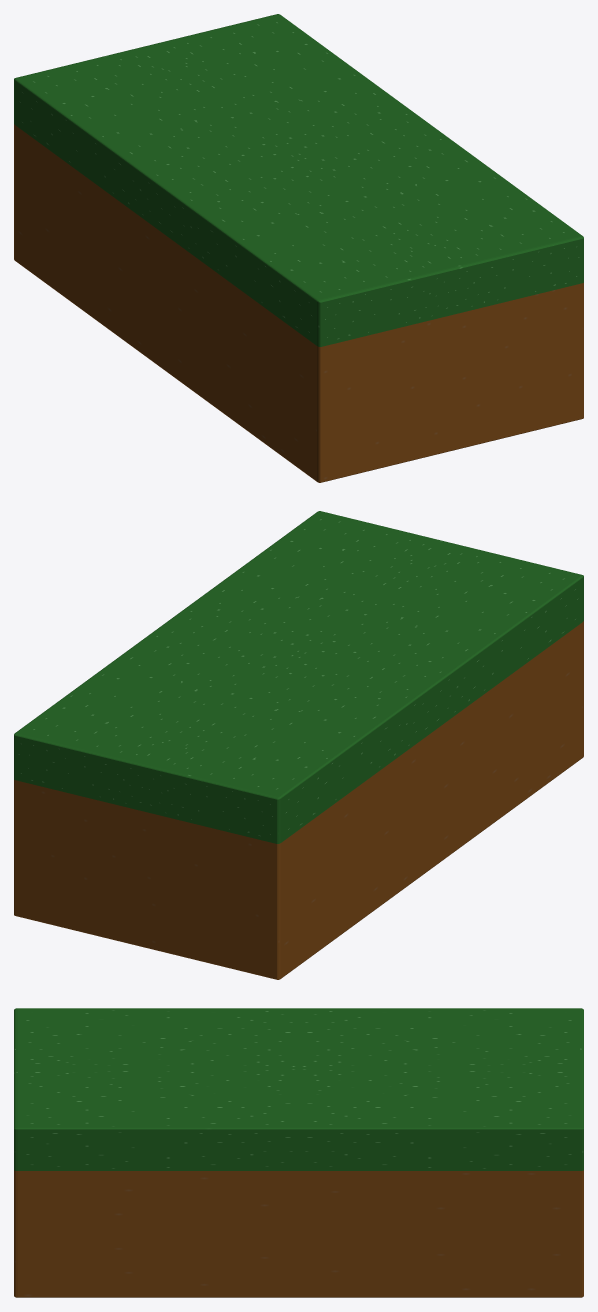
File: platform3.fbx
The picture shows the model from 3 angles, top to bottom: view 1: azimuth 30°, elevation 25°; view 2: azimuth 150°, elevation 25°; view 3: azimuth 270°, elevation 25°; orthographic projection. The views are drawn at different scales.
Parts seen in each view (by area): view 1: Cube.001, Cube; view 2: Cube.001, Cube; view 3: Cube.001, Cube.
Part boxes in pixels (x1,y1,x2,y2): Cube.001: (14, 14, 583, 346); Cube: (14, 124, 583, 482); Cube.001: (14, 511, 583, 843); Cube: (14, 621, 583, 979); Cube.001: (14, 1008, 583, 1170); Cube: (14, 1170, 583, 1297).
Bounding box in the file's own units: 601 × 393 × 1197.
